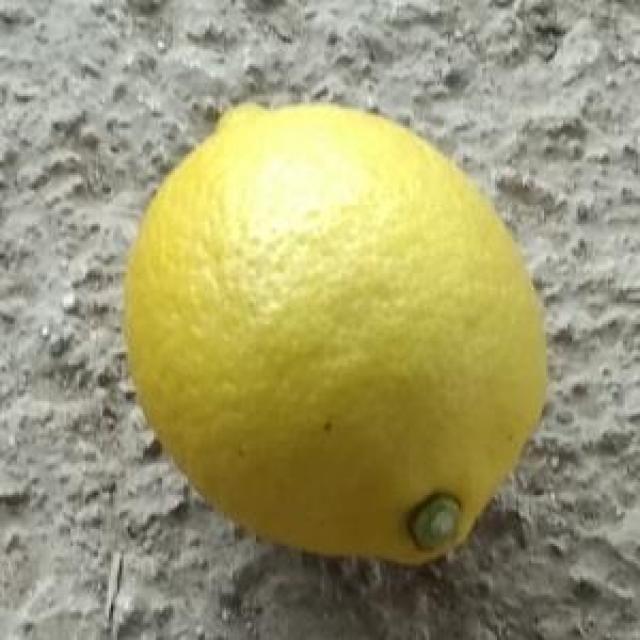lemon: (125, 97, 558, 571)
